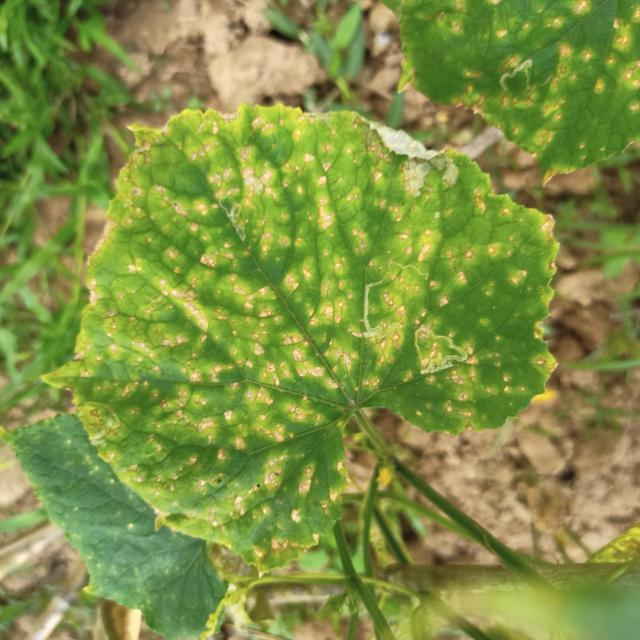disease_cucumber: (78, 105, 546, 559)
